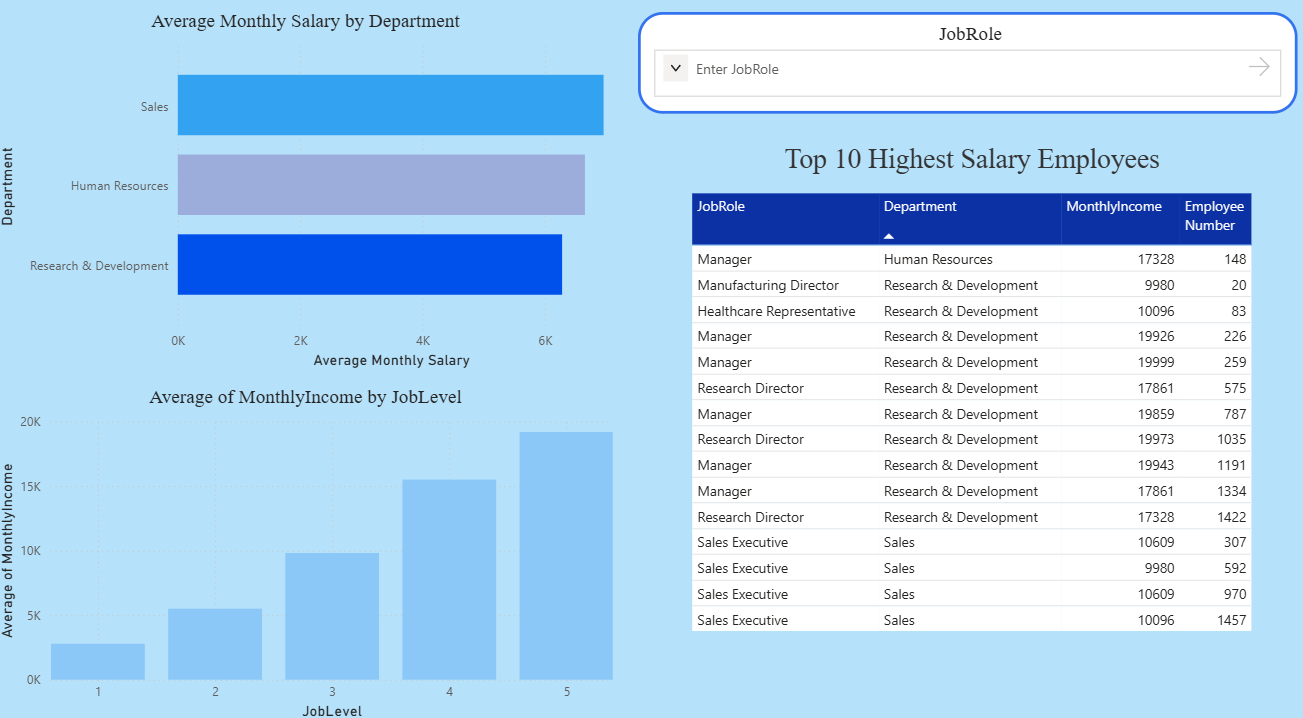

Layout of this report page (visuals, bound fields, positions):
{"tool":"powerbi","page":{"name":"Compensation Analysis","canvas":[1280,720],"ordinal":2},"visuals":[{"type":"clusteredBarChart","fields":{"Category":["employee.Department"],"Y":["employee.Average Monthly Salary"]},"box":[0,157.1,639.3,401.8],"z":0},{"type":"tableEx","title":"Top 10 Highest Salary Employees","fields":{"Values":["employee.JobRole","employee.Department","employee.MonthlyIncome","employee.EmployeeNumber"]},"box":[662.5,160.7,616.1,416.1],"z":1000},{"type":"textSlicer","fields":{"Values":["employee.Department"]},"box":[23.3,51.7,640,98.3],"z":2000},{"type":"textSlicer","fields":{"Values":["employee.JobRole"]},"box":[640,51.7,640,98.3],"z":3000}]}

Visuals, with their boxes in screenshot pixels (x1, y1, x2, y2), scaled from the page's 1280x720 canvas onto the 1303x718 screenshot:
clusteredBarChart - employee.Department x employee.Average Monthly Salary: locate(0, 157, 651, 557)
"Top 10 Highest Salary Employees" tableEx: locate(674, 160, 1302, 575)
textSlicer - employee.Department: locate(24, 52, 675, 150)
textSlicer - employee.JobRole: locate(652, 52, 1302, 150)
